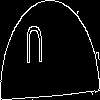U: (25, 25, 44, 73)
